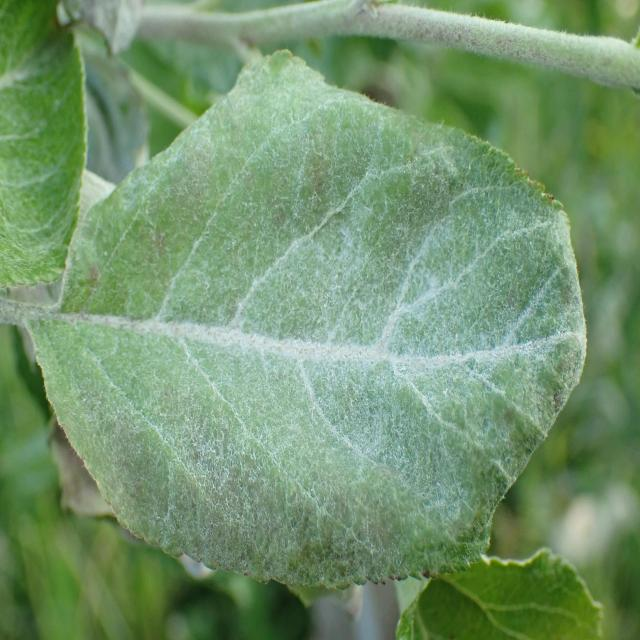Powdery_mildew: (43, 70, 579, 584)
